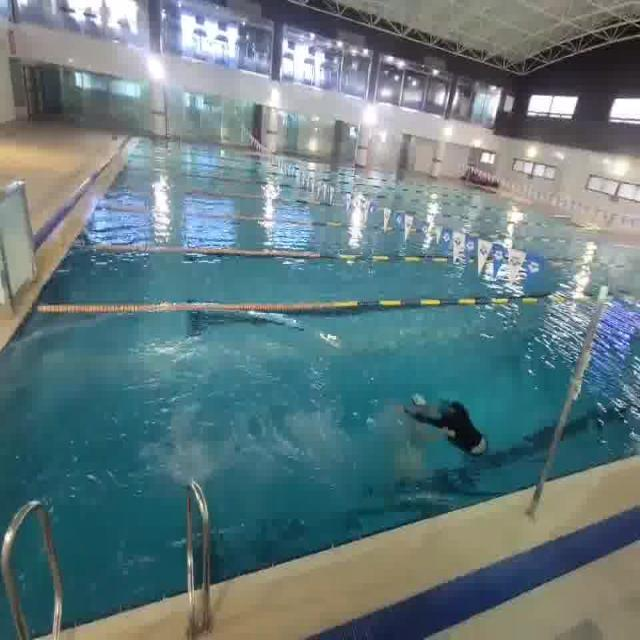drowning: (408, 382, 491, 466)
